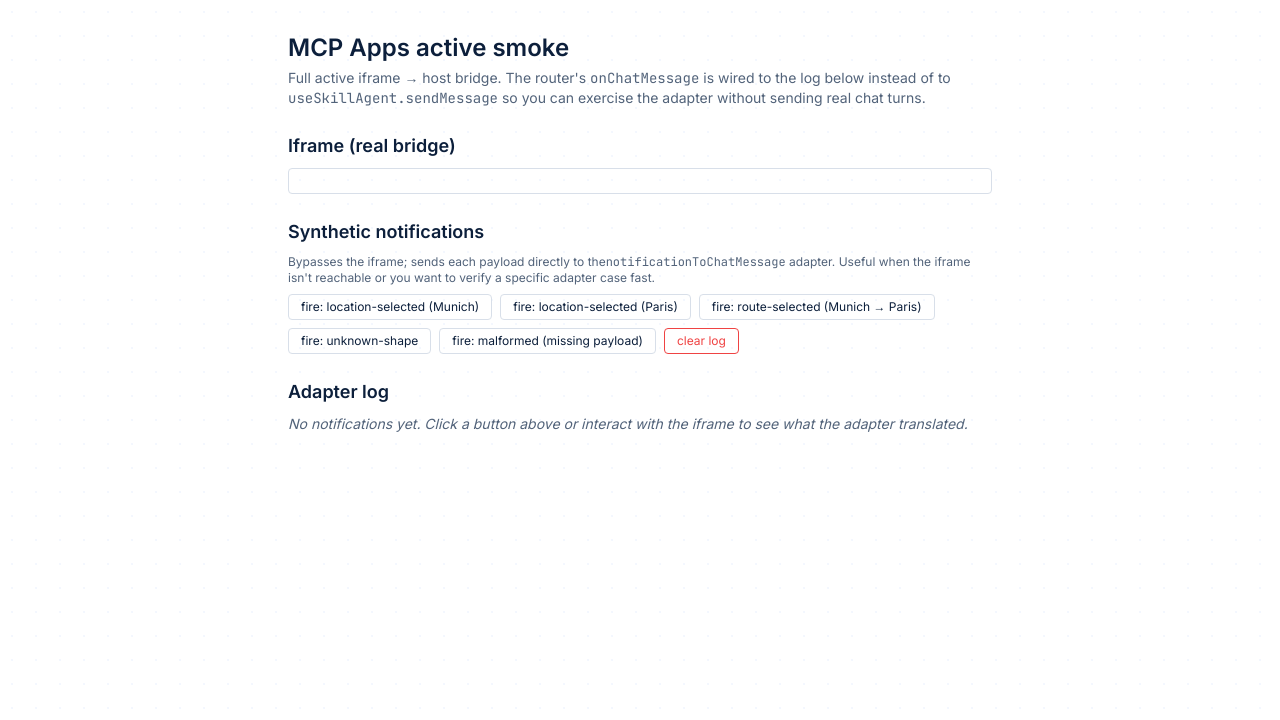
Scenario: /dev/mcp-apps/active › unknown-shape button → adapter returns null → log shows 'null (adapter ignored)'
The image size is (1280, 720).
Click the button "fire: unknown-shape" at [360, 341], box [288,328,431,354]
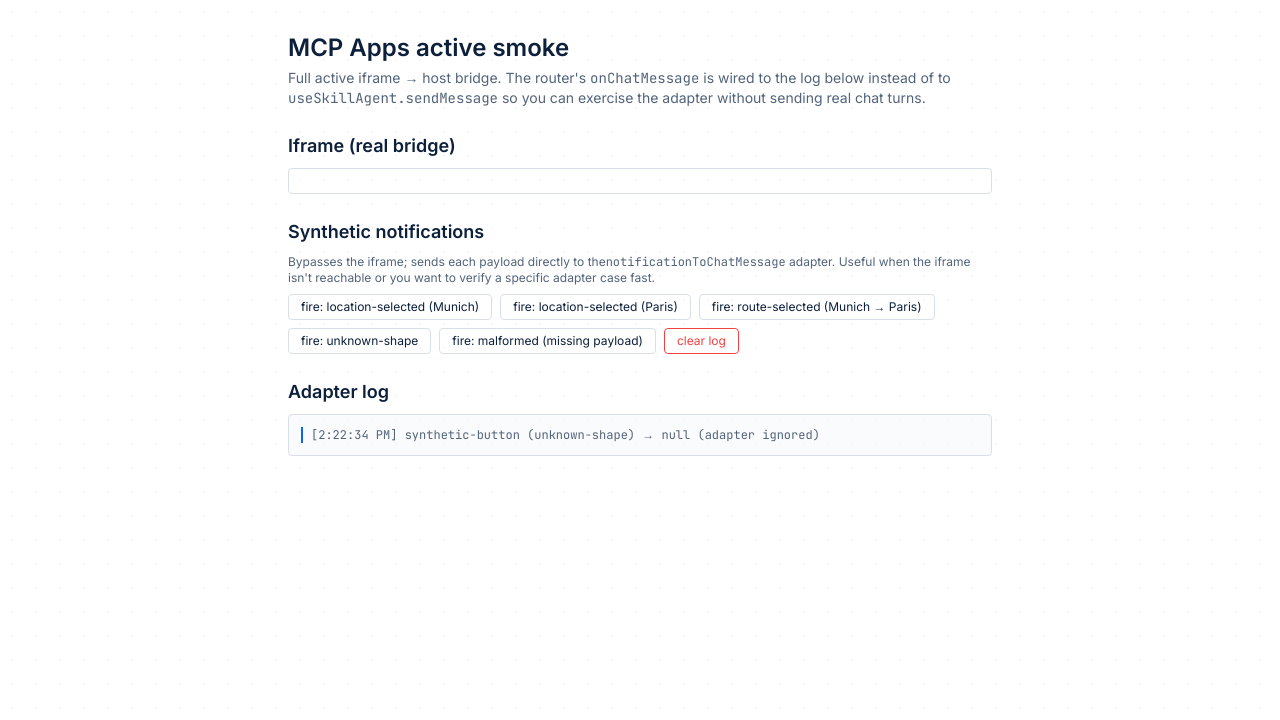
Expected: the text "null (adapter ignored)" is shown, [661,427,820,443]
